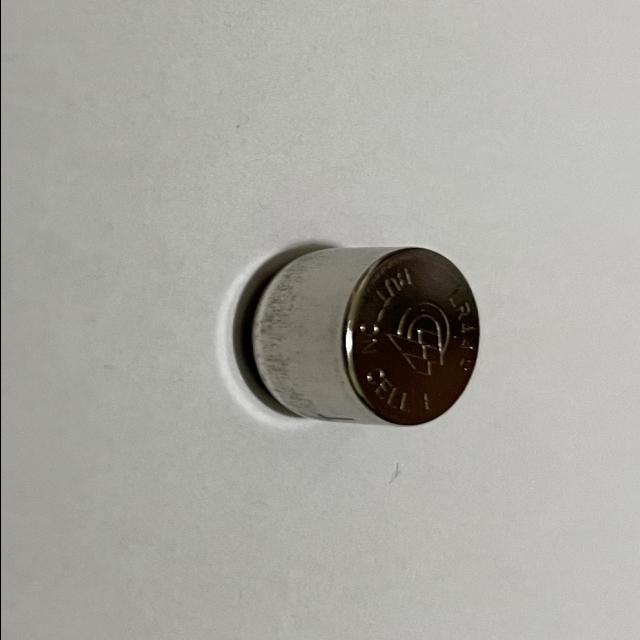COIN: (242, 244, 480, 426)
